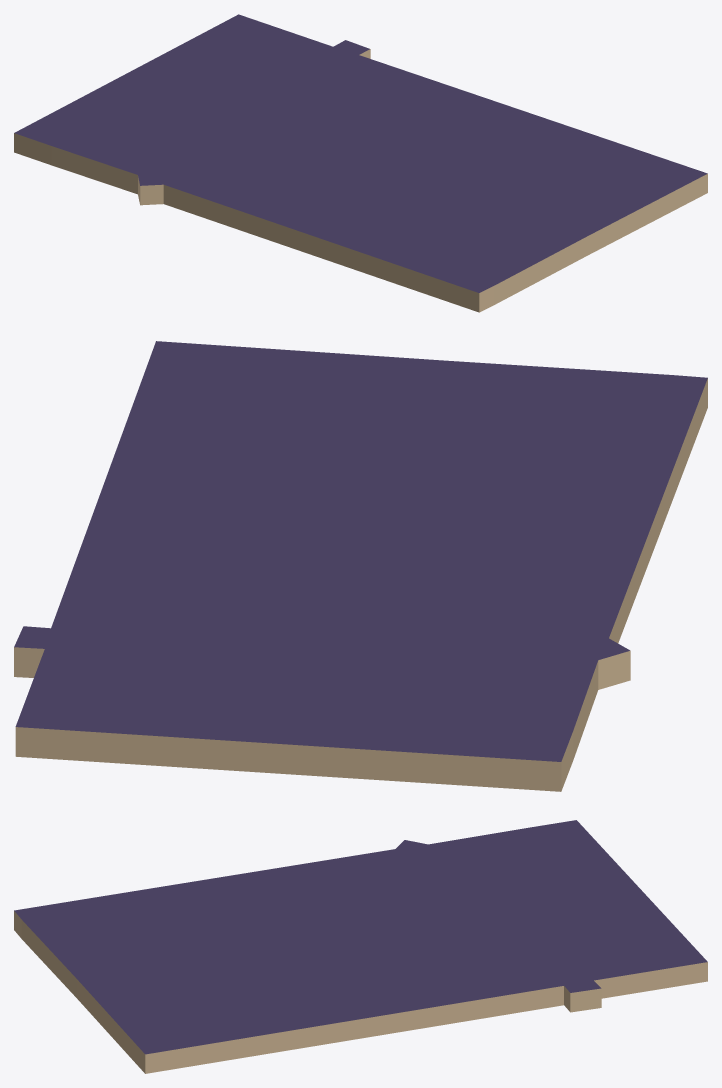
File: b-060-day.glb
The picture shows the model from 3 angles, top to bottom: view 1: azimuth 30°, elevation 25°; view 2: azimuth 150°, elevation 25°; view 3: azimuth 270°, elevation 25°; orthographic projection. The views are drawn at different scales.
Visible parts, largest first — view 1: campus/b-060-day-0; view 2: campus/b-060-day-0; view 3: campus/b-060-day-0.
Boxes of the visible parts, x1=… form: campus/b-060-day-0: x1=14, y1=14, x2=707, y2=312; campus/b-060-day-0: x1=14, y1=341, x2=707, y2=791; campus/b-060-day-0: x1=14, y1=820, x2=707, y2=1073.
Bounding box in the file's own units: 77.51 × 3 × 96.94.
